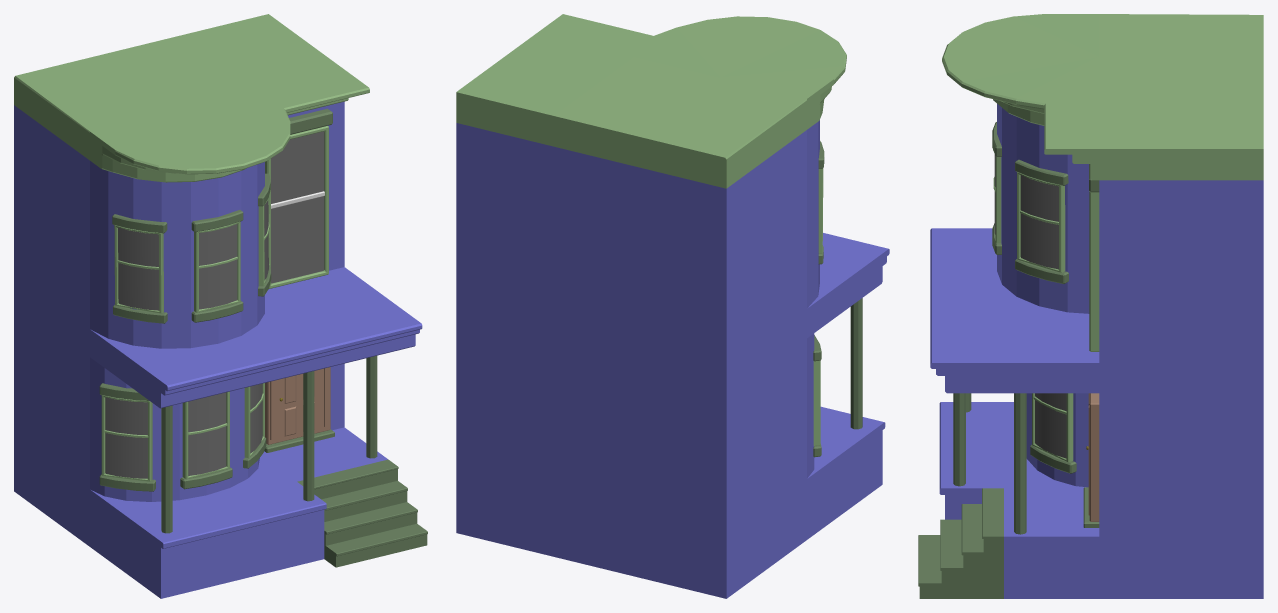
Rendered from DeepOceanBlueHouse.fbx.
The picture shows the model from 3 angles, left to right: view 1: azimuth 30°, elevation 25°; view 2: azimuth 150°, elevation 25°; view 3: azimuth 270°, elevation 25°; orthographic projection. The views are drawn at different scales.
Visible parts, largest first — view 1: polySurface31; view 2: polySurface31; view 3: polySurface31.
Part boxes in pixels (x1,y1,x2,y2): polySurface31: (14,14,427,598); polySurface31: (456,14,889,598); polySurface31: (918,14,1263,598).
Size of the model in its own units: 5.03 by 7.8 by 5.42.
